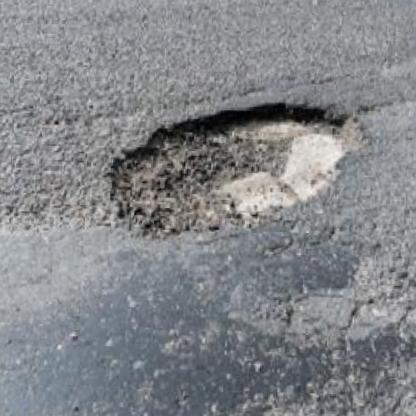pothole: (106, 97, 365, 246)
